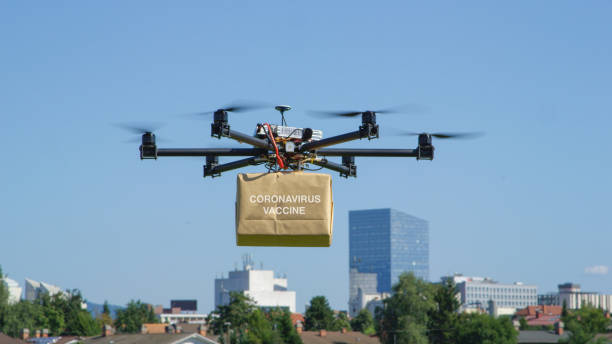Drone: (110, 100, 488, 176)
